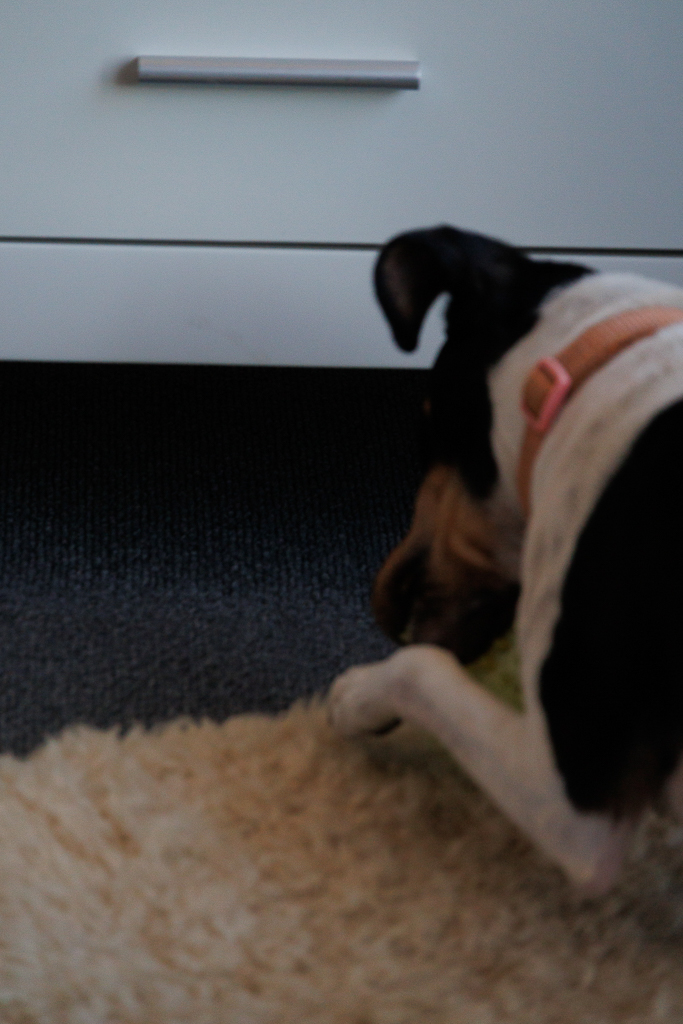Dog: (308, 212, 683, 912)
